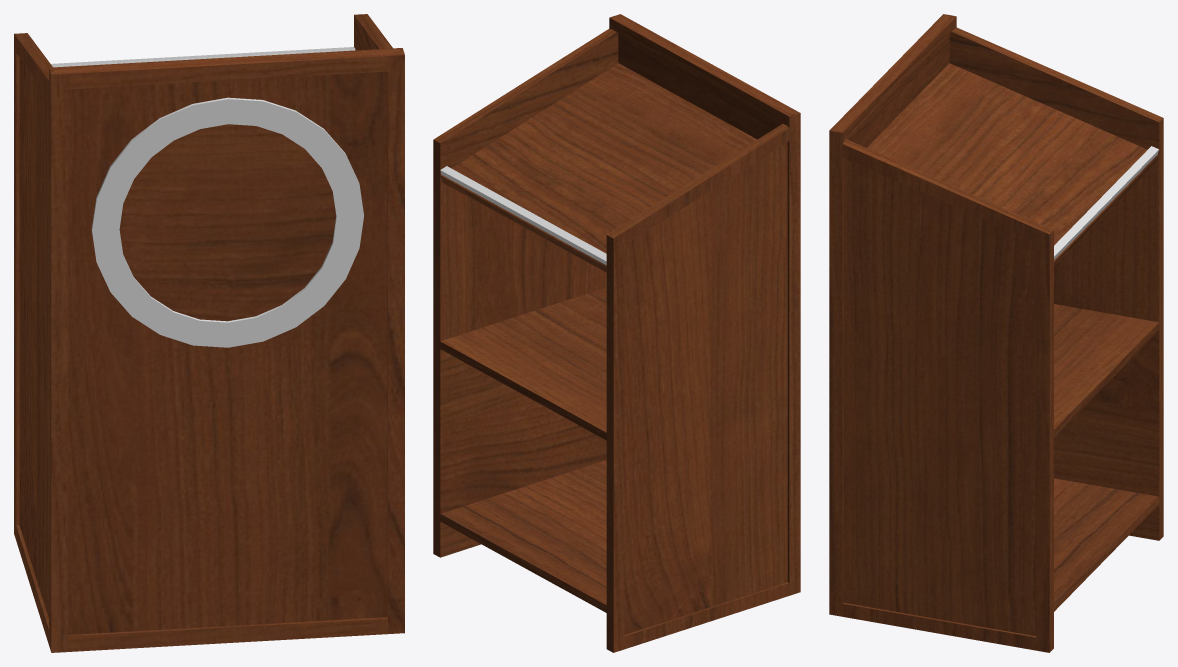
The model's file is Podium.fbx.
The picture shows the model from 3 angles, left to right: view 1: azimuth 30°, elevation 25°; view 2: azimuth 150°, elevation 25°; view 3: azimuth 270°, elevation 25°; orthographic projection. The views are drawn at different scales.
Visible parts, largest first — view 1: Podium; view 2: Podium; view 3: Podium.
Boxes of the visible parts, x1,y1,x2,y2 form: Podium: [14, 14, 404, 652]; Podium: [433, 14, 800, 652]; Podium: [829, 14, 1163, 652].
Bounding box in the file's own units: 95.29 × 139 × 86.8.
Materials: 1 (1 with a texture image).
